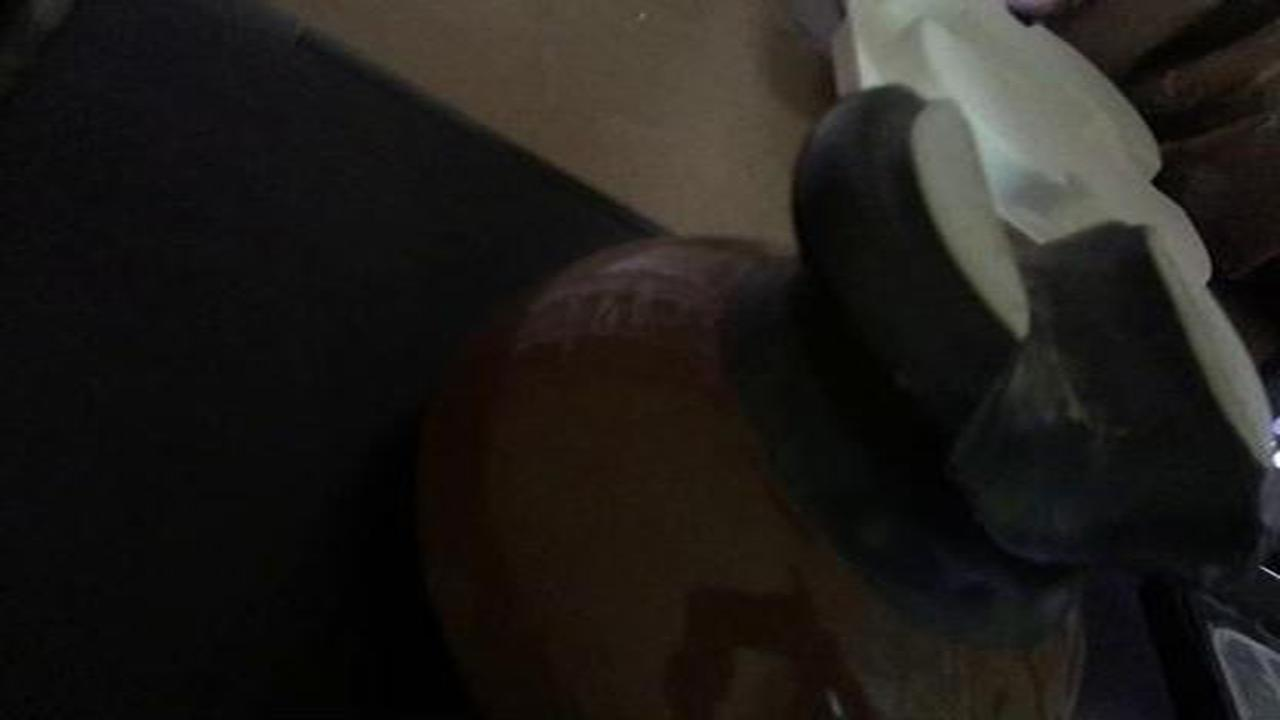insulator_pin: (394, 77, 1271, 715)
